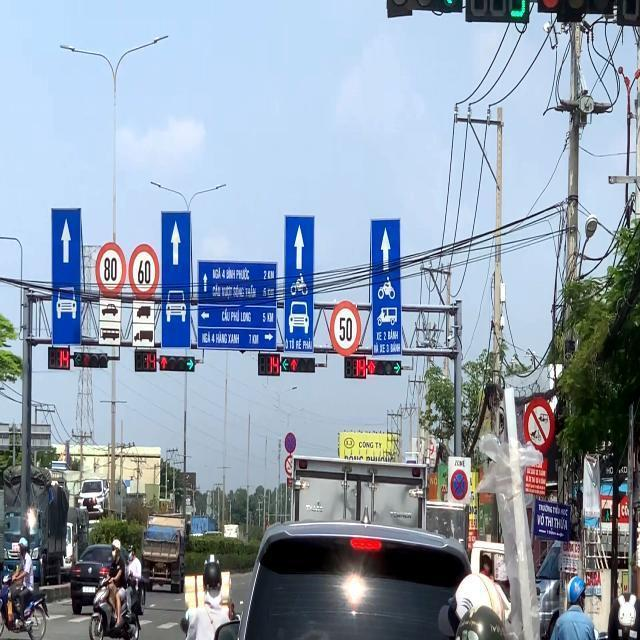127-toc-do-toi-da-50: (326, 300, 364, 357)
127-toc-do-toi-da-60: (127, 243, 162, 300)
127-toc-do-toi-da-80: (96, 243, 126, 298)
130-cam-dung-va-do-xe: (450, 468, 468, 499), (284, 431, 300, 454)
